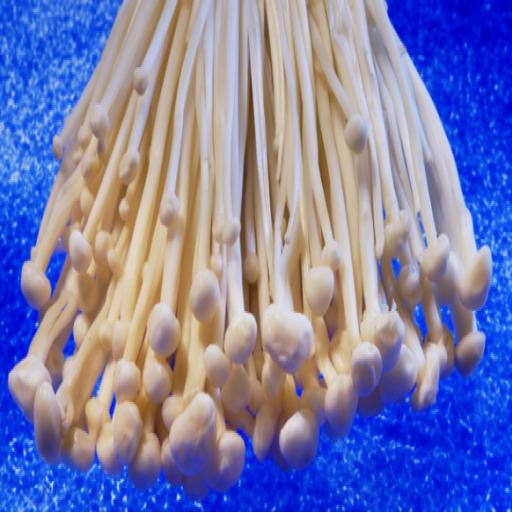Enoki Mushroom: (11, 0, 495, 496)
